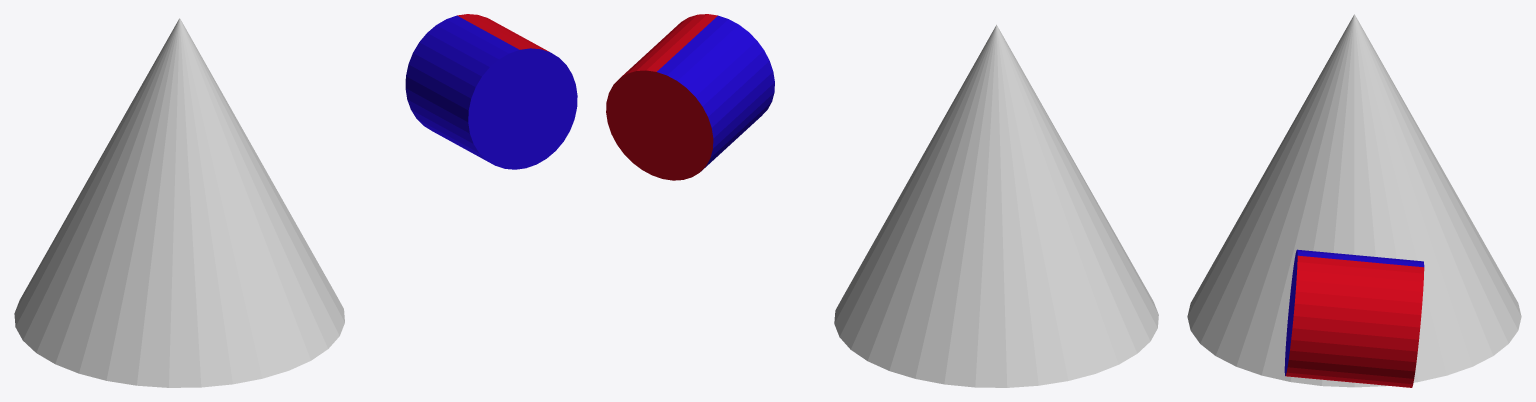
3 views of the same model, side by side, from view 1: azimuth 30°, elevation 25°; view 2: azimuth 150°, elevation 25°; view 3: azimuth 270°, elevation 25° (orthographic). The views are drawn at different scales.
Visible parts, largest first — view 1: Cone, Cylinder; view 2: Cone, Cylinder; view 3: Cone, Cylinder.
Boxes of the visible parts, x1,y1,x2,y2 form: Cone: (14,18,344,387); Cylinder: (405,14,577,169); Cone: (834,25,1158,387); Cylinder: (606,14,774,180); Cone: (1187,14,1521,387); Cylinder: (1284,249,1424,387).
Size of the model in its own units: 3.55 by 2 by 2.
